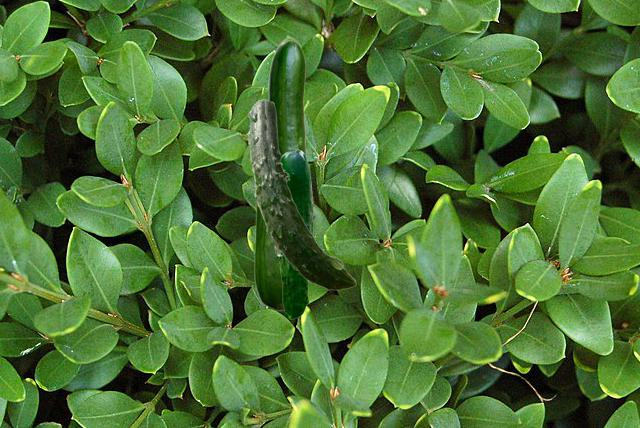cucumber: (247, 99, 355, 289), (277, 149, 314, 318), (268, 40, 306, 154), (253, 176, 282, 310)
